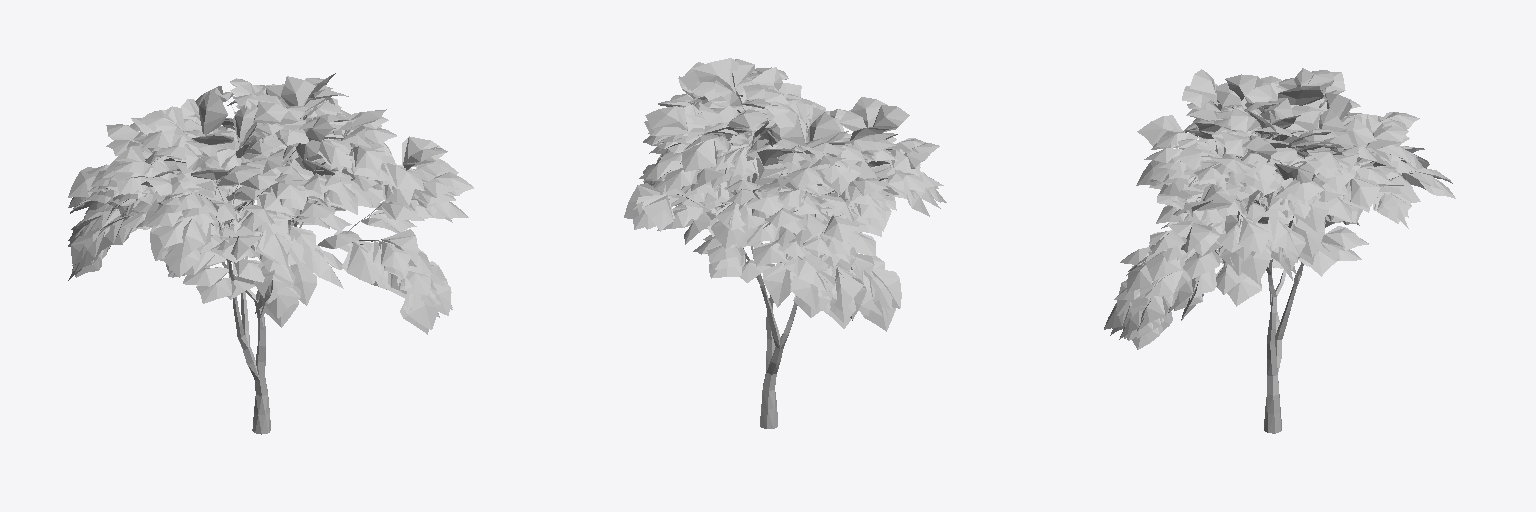
Rendered from tree5.obj.
3 renders of one model, left to right at view 1: azimuth 30°, elevation 25°; view 2: azimuth 150°, elevation 25°; view 3: azimuth 270°, elevation 25°, orthographic.
Parts seen in each view (by area): view 1: polySurface1_Untitled; view 2: polySurface1_Untitled; view 3: polySurface1_Untitled.
Part boxes in pixels (x1,y1,x2,y2): polySurface1_Untitled: (68, 73, 473, 434); polySurface1_Untitled: (624, 58, 946, 428); polySurface1_Untitled: (1104, 68, 1455, 433).
Bounding box in the file's own units: 7.27 × 7.64 × 7.09.